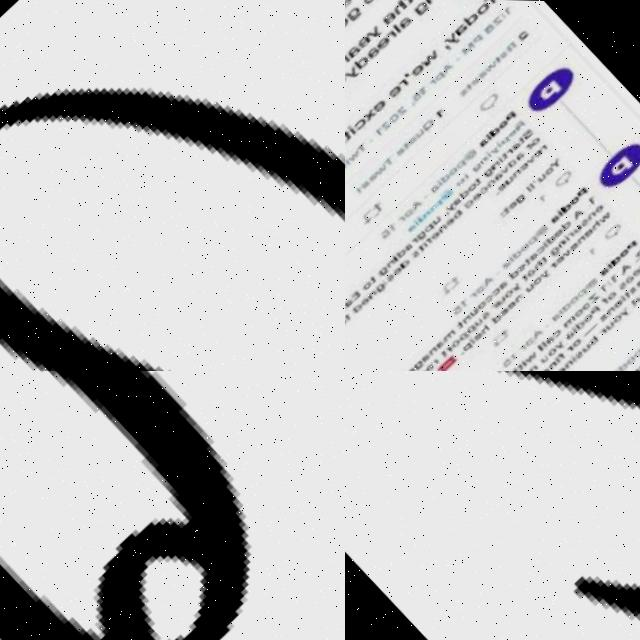0: (391, 111, 402, 122)
1: (503, 4, 514, 14), (437, 106, 447, 116), (421, 84, 430, 92), (378, 126, 387, 134), (393, 221, 402, 229), (592, 193, 601, 201), (467, 297, 476, 305), (594, 244, 603, 252), (517, 349, 526, 357), (616, 272, 624, 280), (606, 281, 614, 289), (544, 192, 551, 199)
2: (490, 12, 504, 26), (517, 27, 529, 38), (398, 104, 409, 114), (383, 119, 394, 129)
5: (412, 89, 424, 100), (384, 227, 396, 238), (458, 303, 470, 314), (508, 355, 520, 366)
8: (484, 22, 494, 32)
A: (453, 19, 470, 36), (346, 41, 362, 58), (365, 43, 382, 59), (398, 13, 413, 28), (411, 197, 427, 211), (574, 205, 589, 218), (537, 325, 552, 338), (441, 60, 455, 73), (623, 259, 637, 272), (480, 135, 491, 147), (432, 181, 444, 192), (604, 264, 616, 275), (488, 273, 500, 284), (409, 239, 420, 250), (350, 296, 361, 307), (551, 332, 562, 343), (410, 221, 421, 231), (513, 139, 524, 149), (455, 195, 466, 205), (517, 149, 528, 159), (497, 169, 508, 179), (554, 212, 565, 222), (506, 258, 517, 268), (533, 249, 544, 259), (504, 278, 515, 288), (442, 337, 453, 347), (427, 351, 438, 361), (532, 265, 543, 275), (557, 310, 568, 320), (571, 328, 582, 338), (630, 270, 640, 280), (345, 0, 352, 7)
B: (594, 332, 606, 343), (456, 208, 467, 218)
C: (354, 115, 371, 131), (558, 325, 570, 336), (482, 183, 493, 193), (540, 242, 551, 252), (497, 284, 507, 295), (489, 291, 500, 301)
D: (352, 52, 371, 70), (462, 8, 480, 25), (565, 199, 577, 211), (615, 251, 627, 263), (492, 124, 504, 135), (400, 245, 412, 256), (509, 155, 521, 166), (513, 266, 525, 277), (496, 311, 508, 322), (624, 358, 636, 369), (581, 316, 592, 327), (442, 171, 453, 181), (420, 210, 431, 220), (462, 186, 473, 196), (468, 196, 479, 206), (405, 256, 416, 266), (358, 302, 369, 312), (517, 247, 528, 257), (565, 217, 576, 227), (550, 232, 561, 242), (567, 299, 578, 309), (547, 364, 558, 371)
E: (410, 60, 427, 76), (373, 97, 390, 113), (381, 8, 397, 24), (356, 32, 372, 48), (375, 34, 391, 50), (389, 82, 405, 98), (587, 224, 599, 236), (511, 197, 523, 208), (597, 201, 609, 212), (573, 239, 585, 250), (505, 304, 517, 315), (397, 145, 408, 156), (558, 225, 569, 236), (522, 260, 533, 271), (432, 360, 443, 371), (479, 330, 490, 341), (560, 252, 571, 263), (499, 47, 510, 57), (478, 67, 489, 77), (471, 74, 482, 84), (371, 171, 382, 181), (363, 178, 374, 188), (510, 125, 520, 136), (475, 190, 486, 200), (435, 228, 446, 238), (397, 264, 408, 274), (366, 295, 377, 305), (535, 146, 546, 156), (522, 159, 533, 169), (500, 180, 511, 190), (512, 298, 523, 308), (357, 289, 368, 299), (449, 215, 459, 225), (563, 363, 574, 371), (412, 364, 424, 371), (345, 134, 349, 150), (636, 263, 640, 274), (528, 368, 539, 371)
F: (607, 294, 616, 303), (429, 234, 437, 242), (565, 350, 573, 358), (528, 140, 535, 147)
G: (345, 3, 363, 21), (411, 0, 429, 15), (485, 165, 497, 176), (383, 264, 395, 275), (419, 358, 431, 369), (473, 160, 484, 171), (554, 244, 565, 255), (421, 229, 432, 239), (382, 281, 393, 291), (519, 192, 530, 202)
H: (389, 0, 407, 13), (537, 258, 548, 268), (594, 218, 605, 228), (486, 322, 497, 332), (516, 365, 527, 371)
I: (349, 124, 359, 133), (346, 158, 353, 164), (487, 132, 494, 138), (439, 178, 446, 184), (417, 217, 423, 224), (398, 253, 405, 259), (387, 278, 394, 284), (560, 207, 567, 213), (546, 239, 553, 245), (529, 357, 536, 363), (578, 324, 585, 330), (626, 292, 633, 298), (578, 353, 585, 359), (488, 149, 494, 155), (500, 154, 506, 160), (427, 240, 433, 246), (514, 254, 520, 260), (569, 232, 575, 238), (611, 259, 617, 265), (564, 306, 570, 312), (562, 354, 568, 360), (621, 366, 628, 371)
L: (391, 23, 401, 31), (548, 338, 555, 345), (476, 336, 483, 342), (530, 183, 536, 189), (546, 341, 552, 347), (499, 140, 505, 145), (533, 181, 539, 186)
M: (460, 39, 476, 54), (568, 312, 584, 326), (448, 327, 463, 341), (633, 364, 640, 371)
N: (561, 236, 573, 247), (611, 303, 623, 314), (481, 152, 492, 163), (591, 208, 602, 219), (571, 356, 582, 367), (493, 158, 504, 168), (390, 257, 401, 267), (441, 222, 452, 232), (373, 288, 384, 298), (514, 166, 525, 176), (468, 312, 479, 322), (435, 344, 446, 354), (581, 232, 592, 242), (520, 291, 531, 301), (535, 361, 546, 371), (555, 358, 566, 368), (489, 177, 499, 187)
O: (0, 78, 345, 371), (474, 0, 490, 14), (457, 336, 469, 348), (611, 287, 623, 299), (578, 334, 590, 346), (499, 117, 511, 128), (451, 163, 462, 175), (428, 203, 440, 214), (367, 278, 379, 289), (532, 134, 544, 145), (547, 163, 559, 174), (573, 192, 585, 203), (509, 286, 521, 297), (537, 273, 549, 284), (624, 245, 636, 256), (588, 310, 600, 321), (553, 344, 565, 355), (410, 133, 421, 143), (459, 174, 470, 184), (470, 180, 481, 190), (525, 239, 535, 250), (482, 299, 493, 309), (587, 298, 598, 308), (580, 305, 591, 315), (619, 296, 630, 306), (576, 292, 586, 302), (619, 311, 629, 321), (632, 351, 640, 362), (345, 14, 350, 30), (345, 316, 353, 326), (360, 0, 376, 4)
P: (506, 109, 518, 121), (532, 233, 544, 244), (471, 33, 483, 44), (580, 185, 592, 196), (583, 285, 594, 296), (436, 70, 447, 80), (459, 158, 470, 168), (408, 207, 419, 217), (502, 133, 513, 143), (436, 197, 447, 207), (473, 323, 484, 333), (470, 340, 481, 350), (481, 283, 492, 293), (532, 335, 543, 345), (630, 237, 640, 248), (429, 221, 439, 231), (466, 330, 476, 340), (596, 303, 606, 313)
Q: (0, 371, 345, 640), (422, 114, 438, 131), (425, 367, 437, 371)
R: (385, 29, 397, 40), (516, 118, 528, 129), (399, 77, 410, 87), (505, 40, 516, 50), (542, 141, 551, 150), (497, 300, 506, 309), (429, 77, 438, 85), (401, 214, 410, 222), (509, 145, 518, 153), (415, 235, 424, 243), (452, 344, 461, 352), (439, 357, 448, 365), (554, 260, 563, 268), (606, 325, 615, 333), (525, 342, 534, 350), (475, 290, 484, 298), (573, 342, 582, 350), (345, 303, 353, 311), (572, 229, 580, 237), (345, 52, 350, 64)
S: (523, 125, 537, 138), (605, 309, 617, 320), (459, 85, 470, 96), (416, 246, 427, 257), (583, 215, 594, 226), (391, 271, 402, 281), (487, 308, 498, 318), (622, 278, 633, 288), (581, 347, 592, 357), (633, 281, 640, 291)
T: (358, 141, 370, 152), (480, 0, 499, 6), (386, 154, 397, 164), (345, 128, 354, 139), (477, 174, 486, 183), (506, 203, 515, 212), (528, 254, 537, 263), (494, 53, 503, 61), (358, 184, 367, 192), (465, 170, 474, 178), (520, 134, 529, 142), (503, 150, 512, 158), (422, 242, 431, 250), (350, 312, 359, 320), (463, 318, 472, 326), (527, 270, 535, 279), (628, 289, 637, 297), (404, 140, 412, 148), (375, 274, 383, 282), (545, 253, 553, 261), (447, 347, 455, 355), (524, 360, 532, 368), (466, 81, 474, 88), (345, 159, 351, 167), (634, 296, 640, 304), (345, 307, 348, 315), (401, 0, 412, 1)
U: (587, 340, 599, 351), (539, 170, 550, 181), (546, 351, 557, 362), (417, 126, 428, 136), (436, 213, 447, 223), (507, 173, 518, 183), (475, 305, 486, 315), (577, 222, 588, 232), (502, 294, 513, 304), (480, 315, 491, 325), (530, 281, 541, 291), (610, 318, 621, 328)
V: (503, 162, 514, 173), (527, 153, 538, 163), (566, 246, 577, 256)
W: (421, 47, 441, 67), (484, 57, 499, 72), (376, 161, 392, 175), (349, 148, 364, 162), (602, 208, 617, 222), (530, 349, 545, 363)
X: (364, 107, 379, 121)
Y: (443, 29, 462, 46), (345, 63, 362, 81), (366, 23, 384, 40), (552, 155, 566, 168), (448, 200, 460, 212), (492, 144, 503, 154), (545, 267, 556, 277), (562, 338, 573, 348), (626, 304, 637, 314), (518, 279, 528, 289)
Z: (345, 371, 640, 640), (593, 290, 605, 301)
